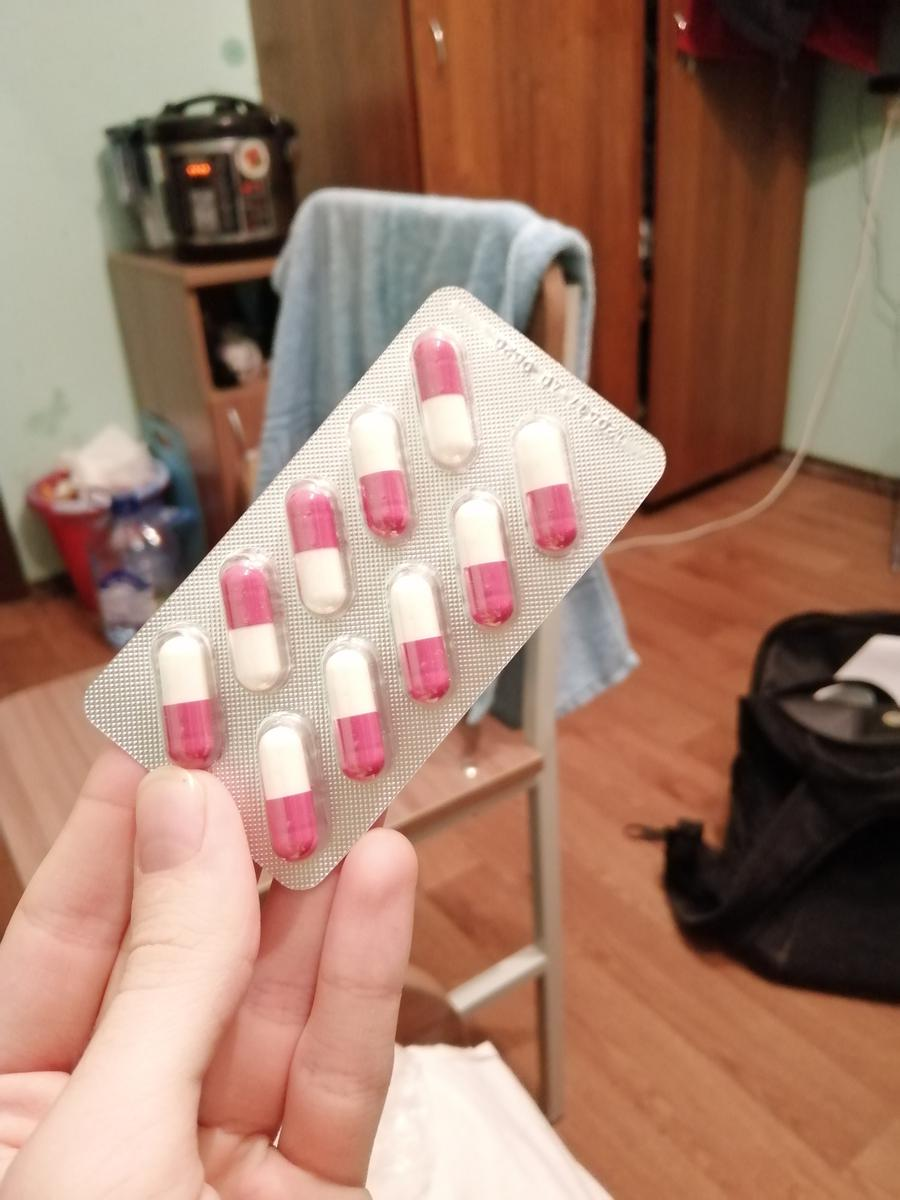capsule: (252, 712, 327, 866), (154, 630, 225, 772), (446, 493, 519, 628), (511, 415, 581, 555), (386, 562, 455, 704), (218, 554, 289, 692), (320, 642, 389, 784), (345, 404, 417, 540), (409, 331, 480, 468), (283, 476, 352, 616)
